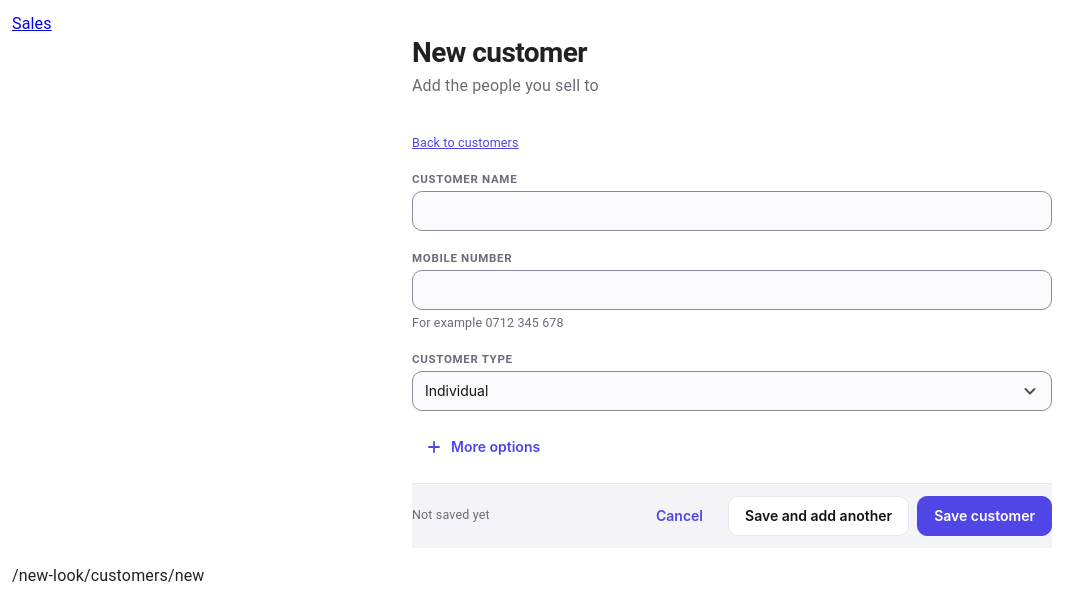
it: the New customer form (AC-26) › the type offers Individual, Company and Partnership as the till does
The width and height of the screenshot is (1073, 599).
Click the dropdown named "Customer type": (457, 391) [412,371,1052,411]
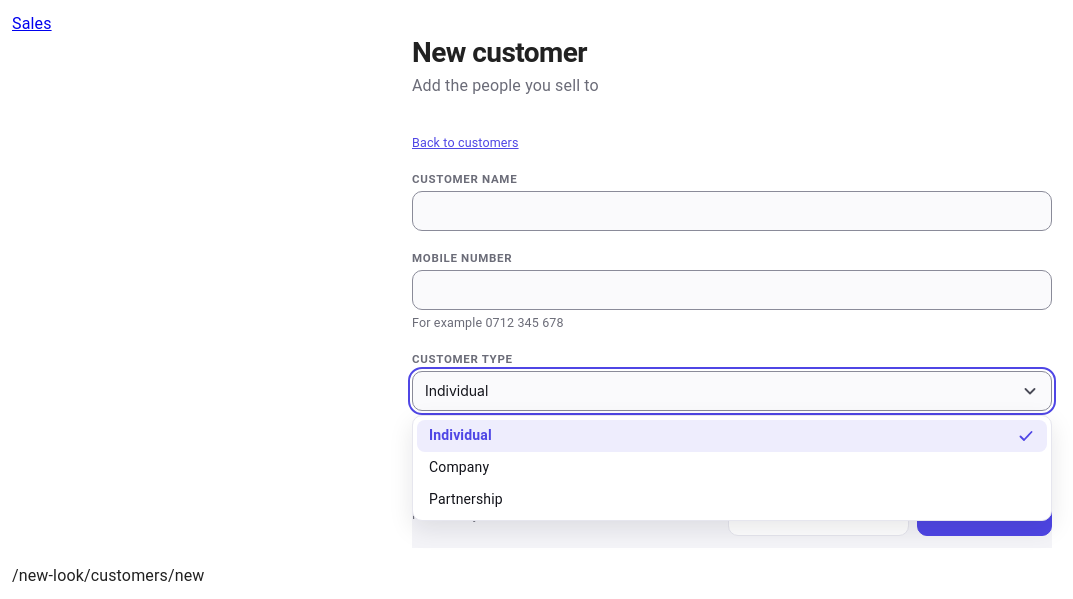
Expected: the options read "Individual", "Company", "Partnership", in this order, [417,420,1047,452]; [429,459,489,475]; [429,491,503,507]
